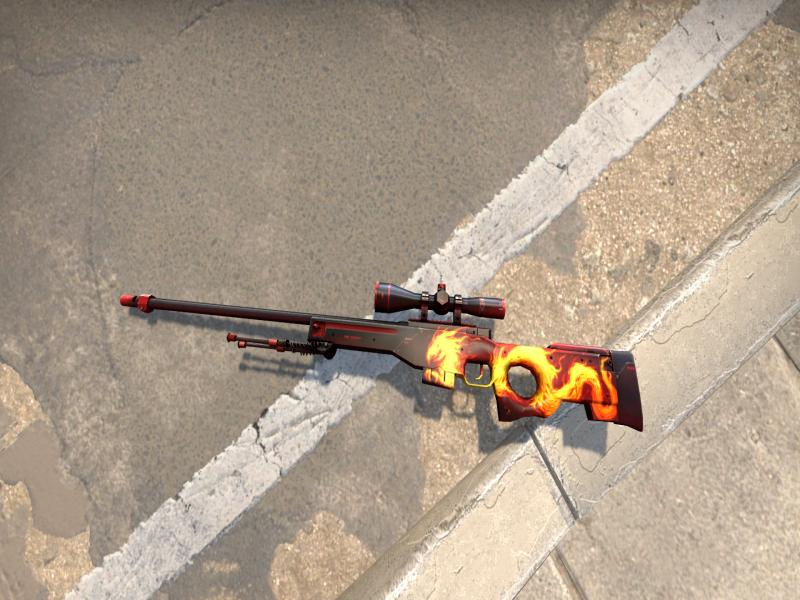AWP: (120, 283, 644, 430)
